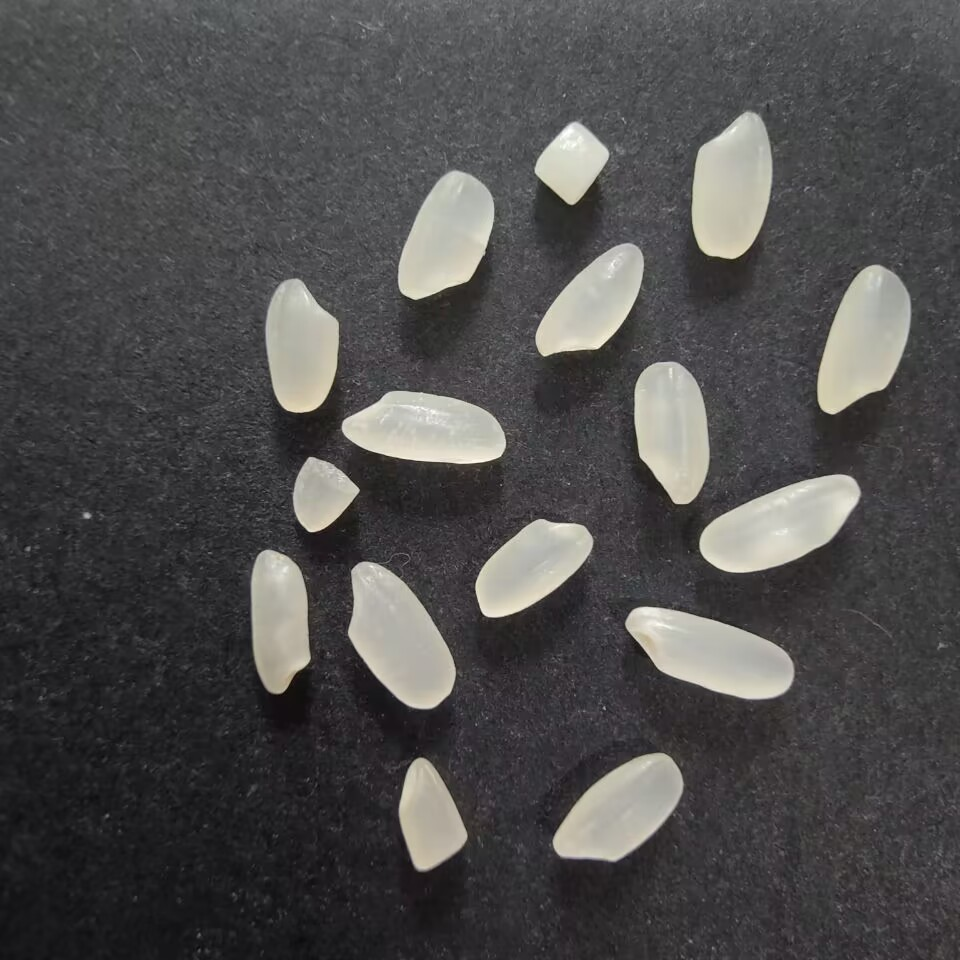broken: (392, 753, 475, 876), (528, 114, 612, 210), (285, 453, 363, 538)
rice: (340, 559, 461, 714), (622, 601, 796, 706), (693, 469, 862, 577), (549, 747, 688, 866), (812, 259, 913, 417), (388, 163, 498, 305), (532, 238, 646, 364), (686, 105, 777, 262), (471, 512, 599, 622), (336, 389, 508, 470), (630, 354, 714, 509), (261, 274, 344, 417), (249, 546, 314, 698)
